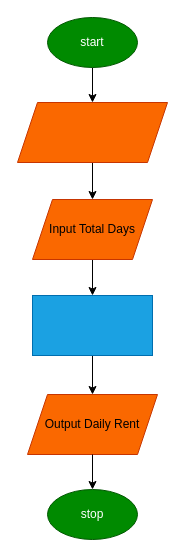
Image size: 185x557. Some labels were removed from this diagram. The shapes that lost their labels are listed below. From the top down, each one's centre as x and y in pixels, then its label:
At (92,132): "Input Montly Rent Total".
At (92,325): "Daily Rent: Take Monthly Rent Total divided by Total Days".
